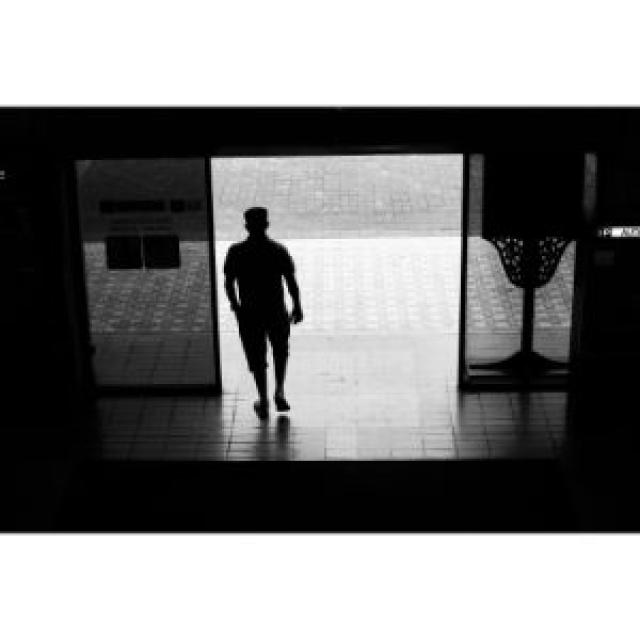nonfall: (208, 202, 326, 425)
